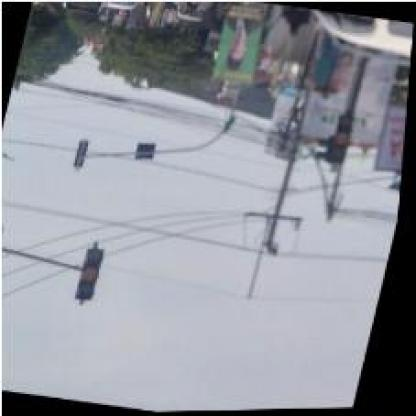yellow: (77, 246, 110, 304), (331, 114, 358, 165)
